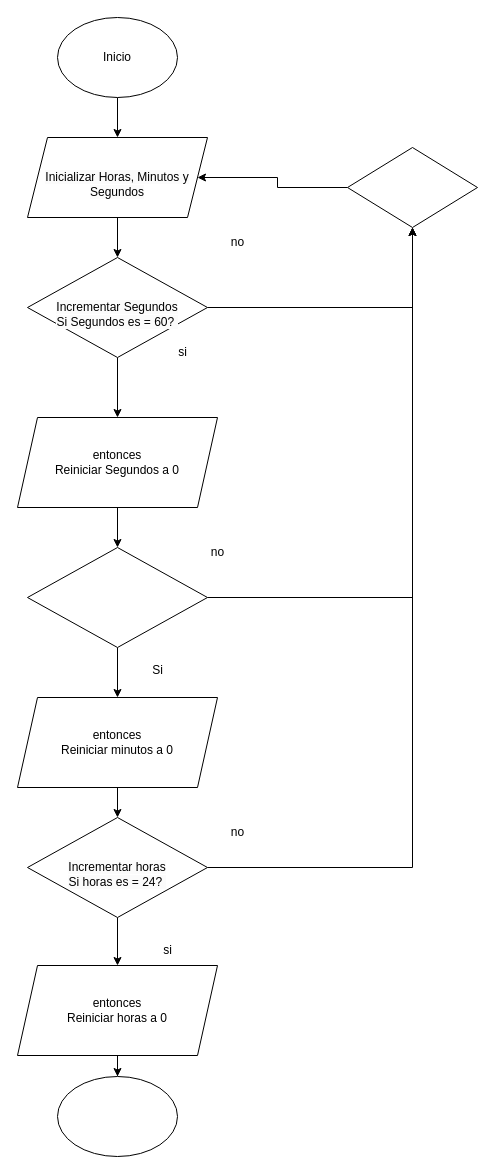
Some shapes in this 495 by 1174 pixel diagram are drawn without their labels. The shapes that lost their labels are listed below. From the top down, each one's centre as x and y in pixels, then its label:
point (412, 187): Repetir
point (117, 597): Incrementar minutos Si minutos es = 60?
point (117, 1116): fin
